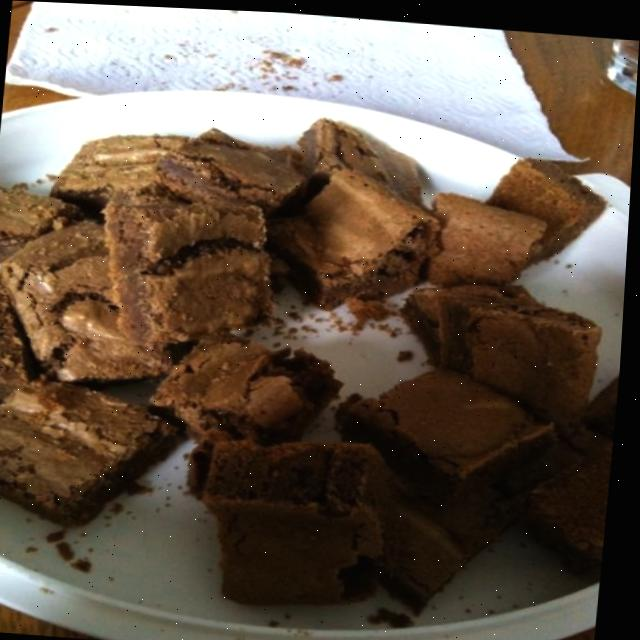蛋糕甜品: (0, 34, 636, 640)
